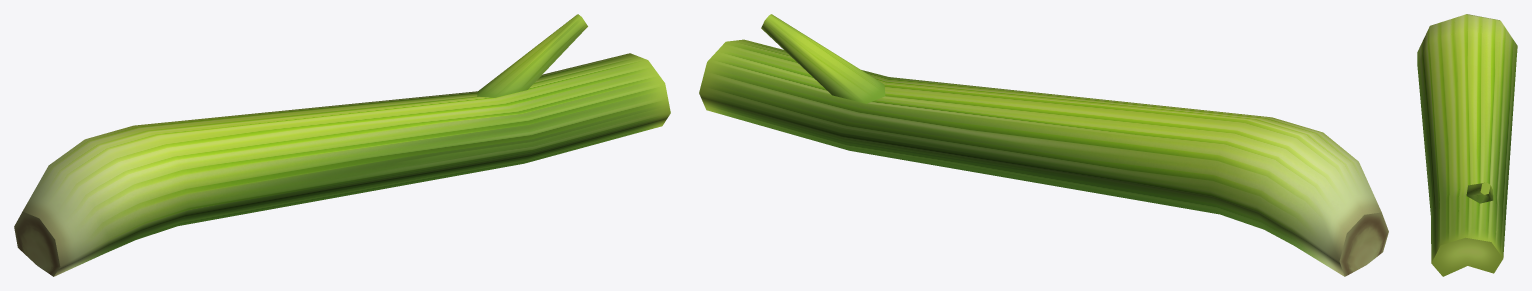
The model's file is Celery_Stalk.fbx.
3 renders of one model, left to right at view 1: azimuth 30°, elevation 25°; view 2: azimuth 150°, elevation 25°; view 3: azimuth 270°, elevation 25°, orthographic. The views are drawn at different scales.
Visible parts, largest first — view 1: Celery_Stalk; view 2: Celery_Stalk; view 3: Celery_Stalk.
Boxes of the visible parts, x1,y1,x2,y2 form: Celery_Stalk: (14, 14, 670, 276); Celery_Stalk: (699, 14, 1388, 276); Celery_Stalk: (1417, 14, 1517, 276).
Bounding box in the file's own units: 106 × 18.12 × 20.81.
